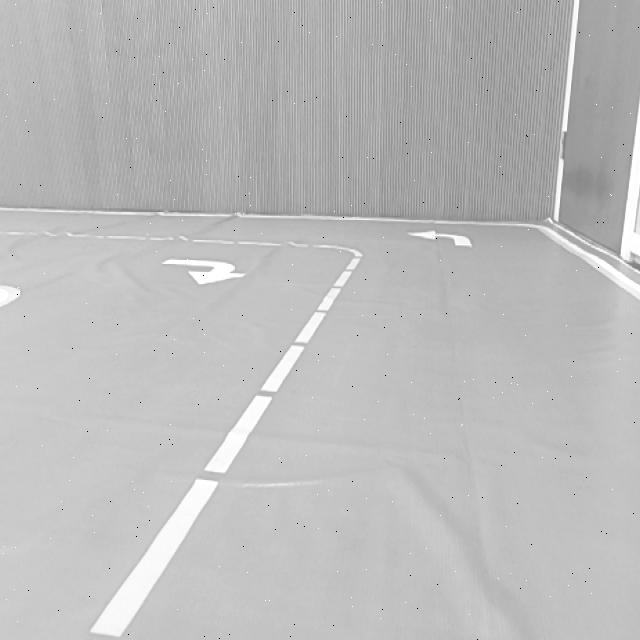left_lane: (86, 257, 363, 639)
right_lane: (536, 227, 640, 302)
